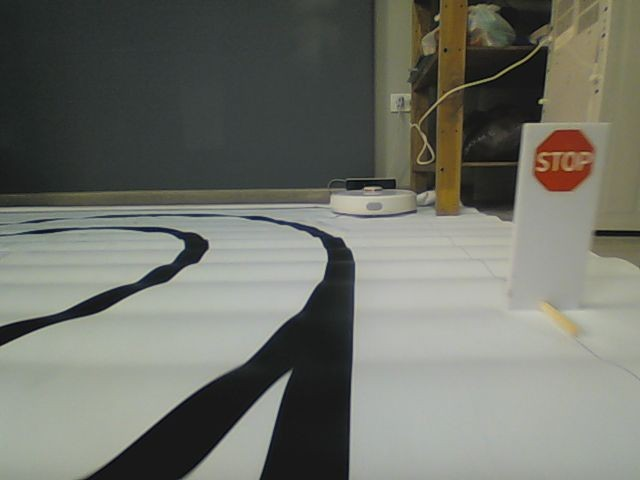Stop: (534, 128, 596, 193)
